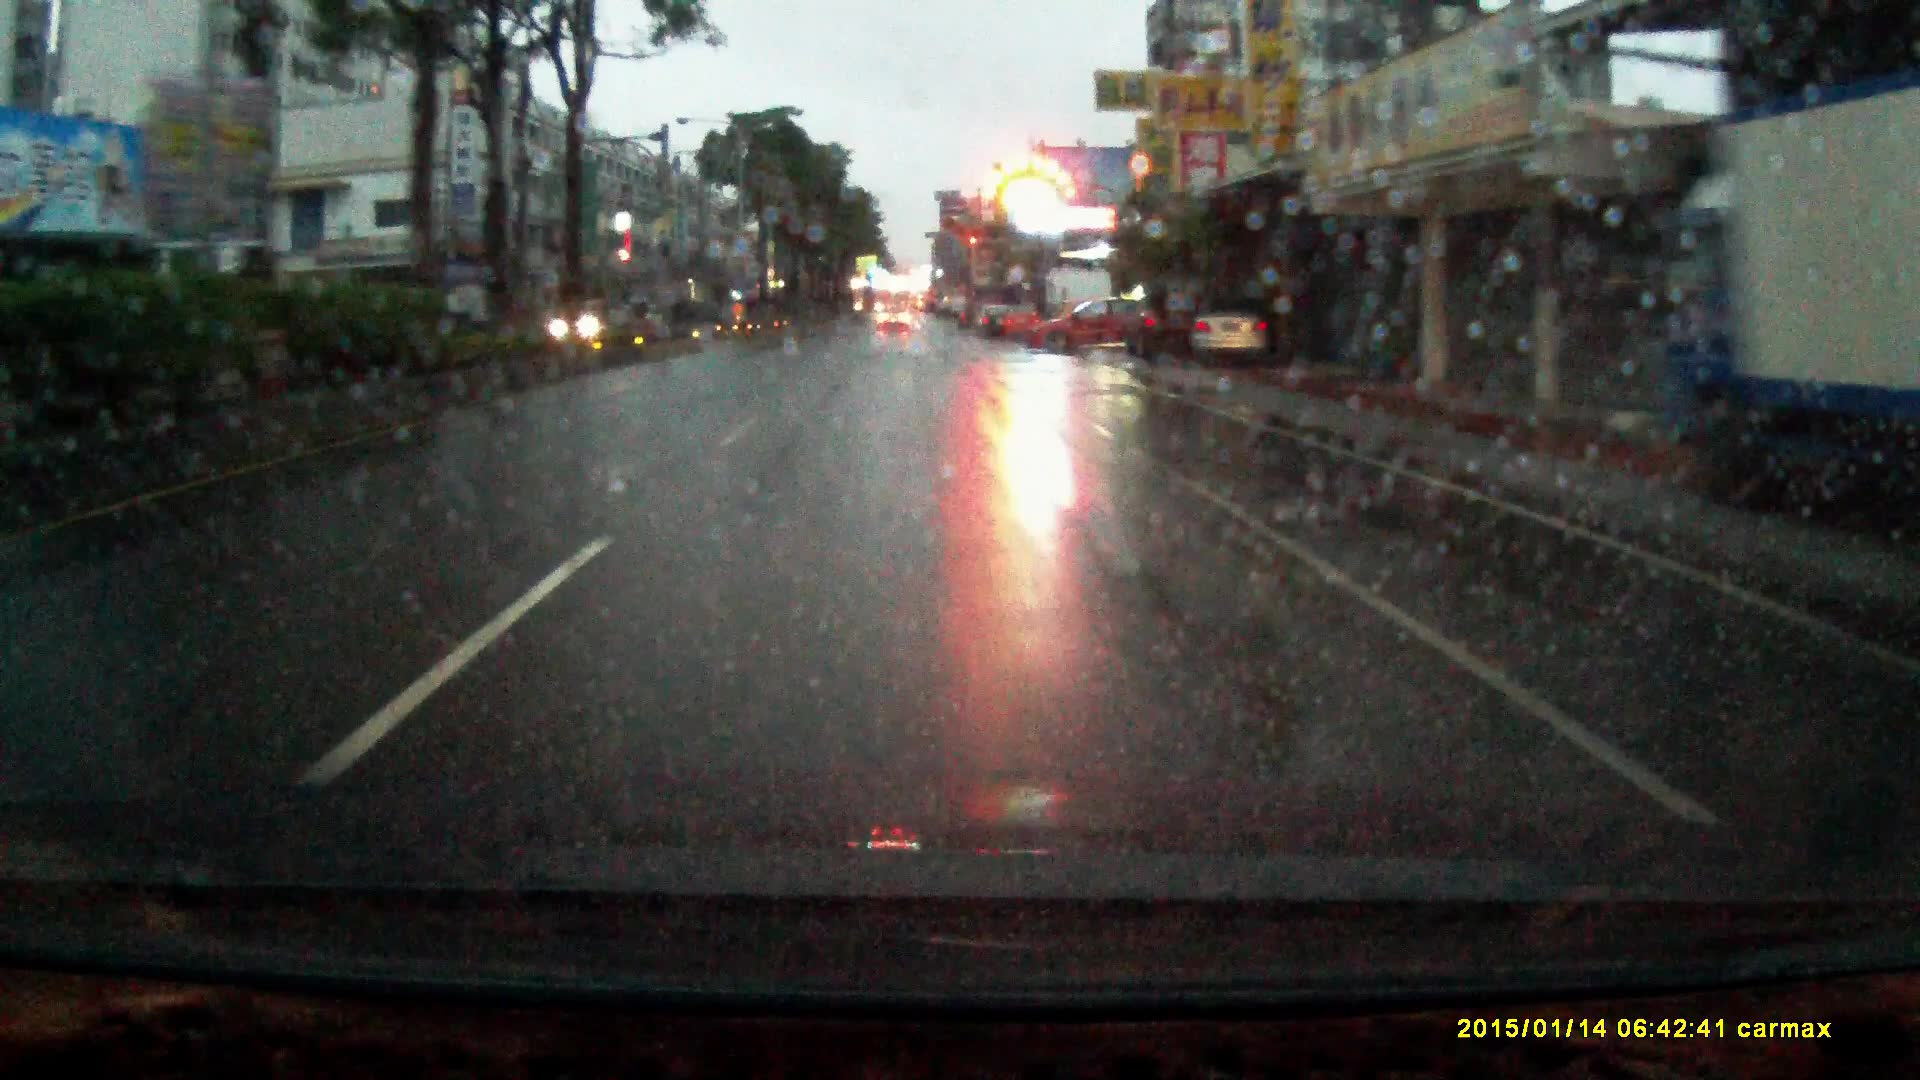vehicle: (1623, 94, 1920, 489), (1023, 294, 1162, 352), (1185, 293, 1274, 365), (1124, 291, 1200, 357), (1004, 299, 1044, 336), (878, 302, 913, 330)
